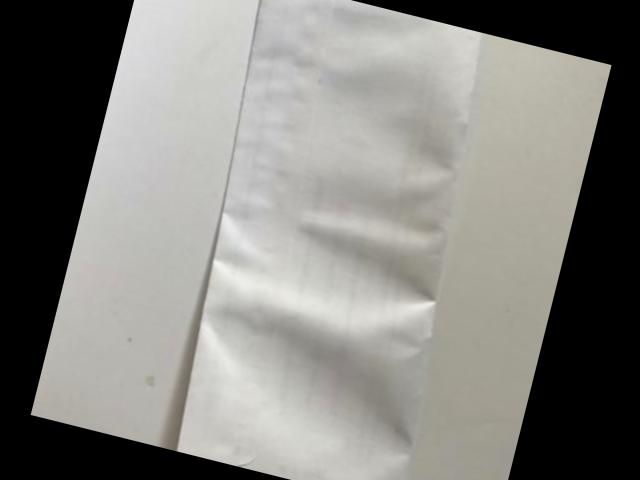cardboard paper: (174, 0, 478, 480)
